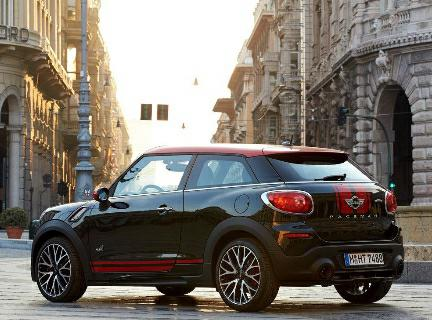MINI-JCWPACEMAN: (17, 137, 419, 318)
